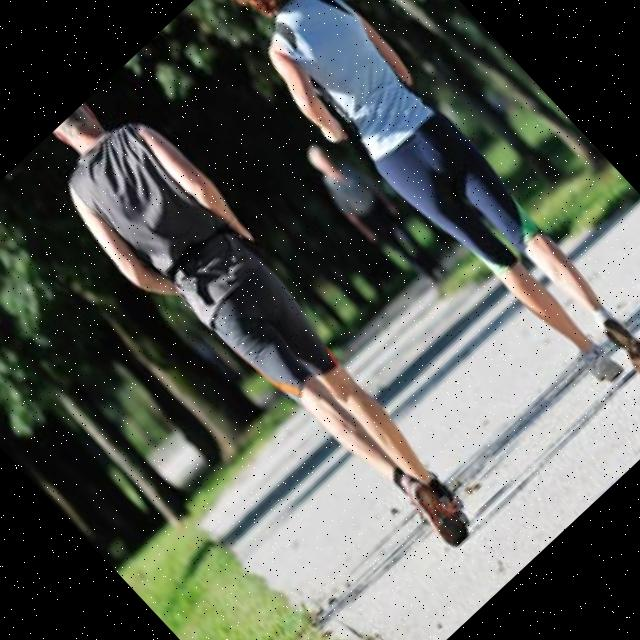Person: (20, 77, 507, 586), (197, 0, 640, 421)
